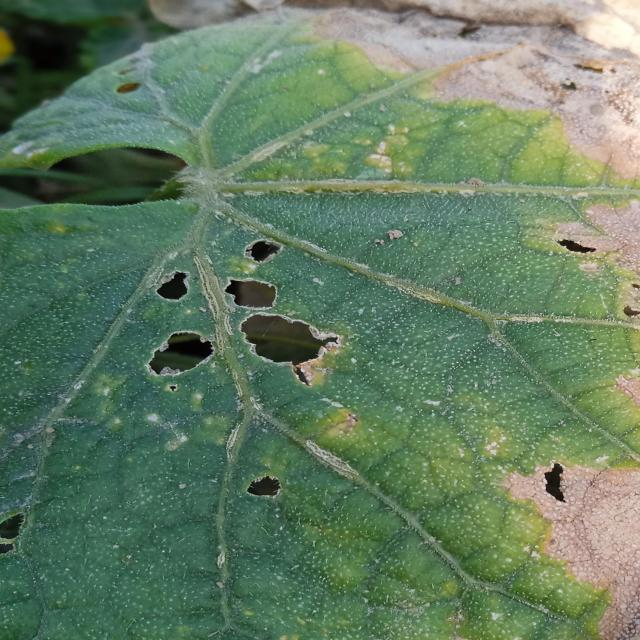cucumber_anthracnose: (12, 50, 639, 610)
